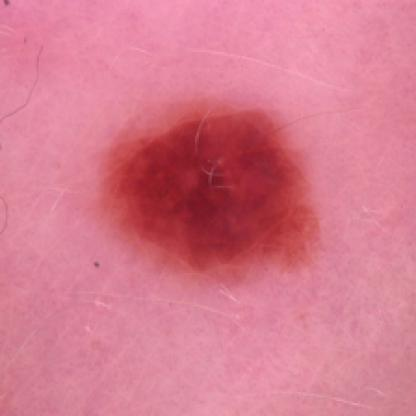benign: (95, 104, 325, 273)
